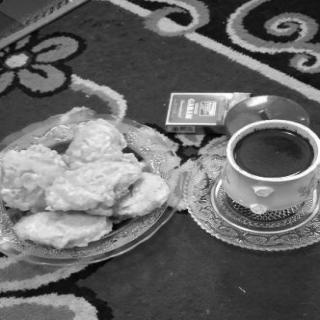objects: (166, 92, 252, 134)
